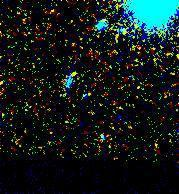star: (62, 59, 92, 89)
